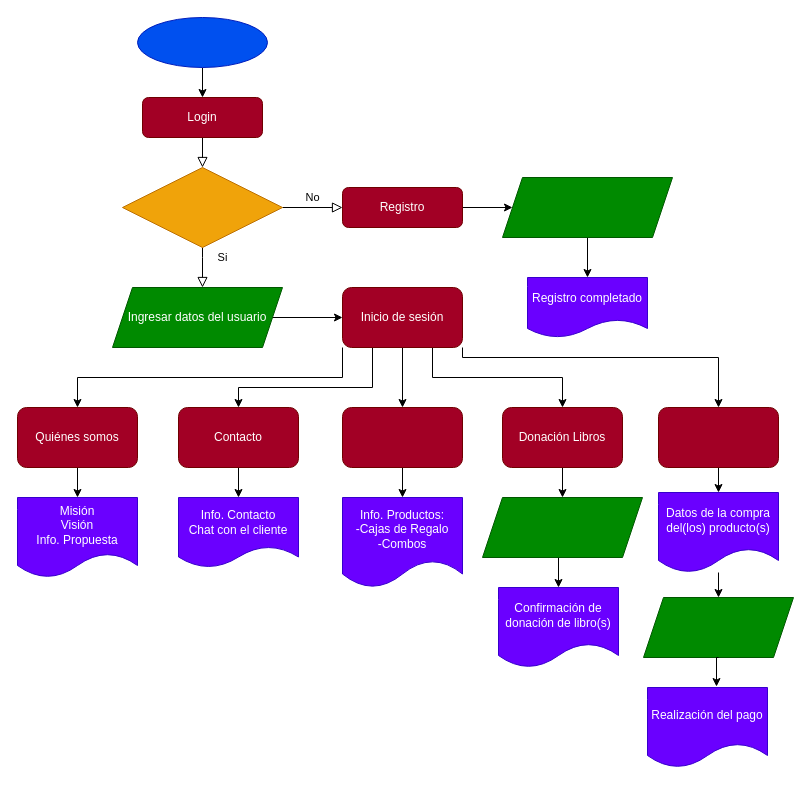
Some shapes in this 811 by 785 pixel diagram are drawn without their labels. The shapes that lost their labels are listed below. From the top down, each one's centre as x and y in pixels, then its label:
(202,42): Inicio
(202,207): Usuario tiene cuenta?
(587,207): Ingresar datos del cliente
(402,437): Catálogo
(718,437): Carrito Compra
(562,527): Usuario ingresa datos del(los) libro(s) a donar
(718,627): Ingresar info. de pago
